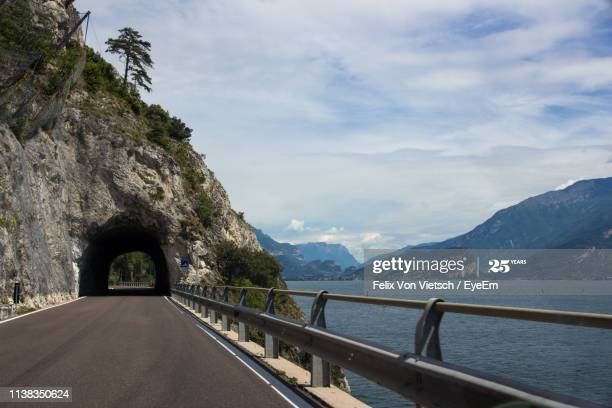bridge: (76, 224, 170, 296)
